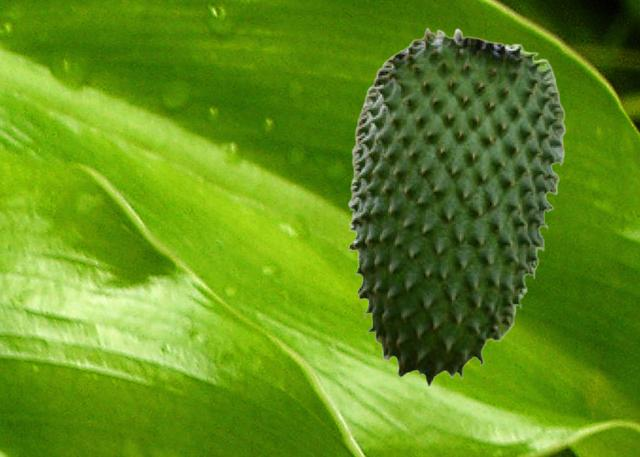guyabano: (347, 27, 565, 386)
